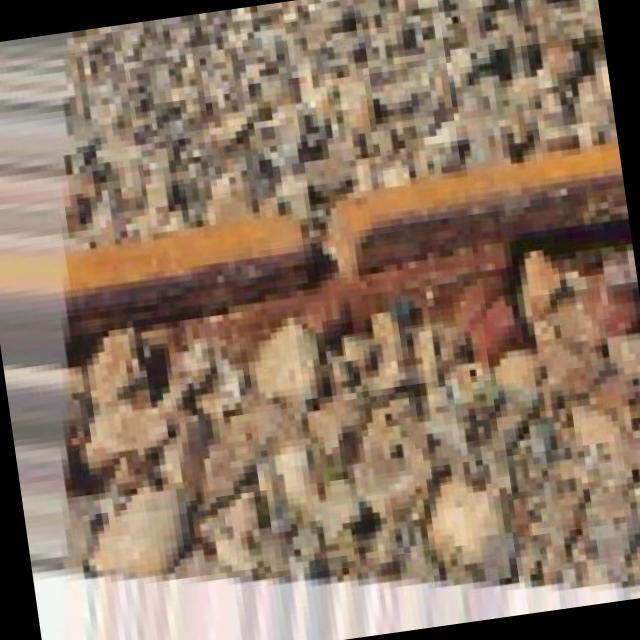defective: (186, 145, 487, 342)
